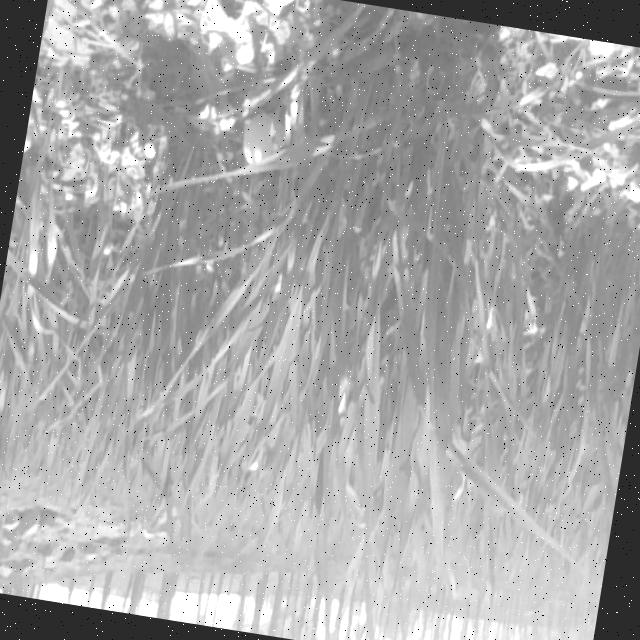ping-pong-ball: (242, 109, 286, 166)
